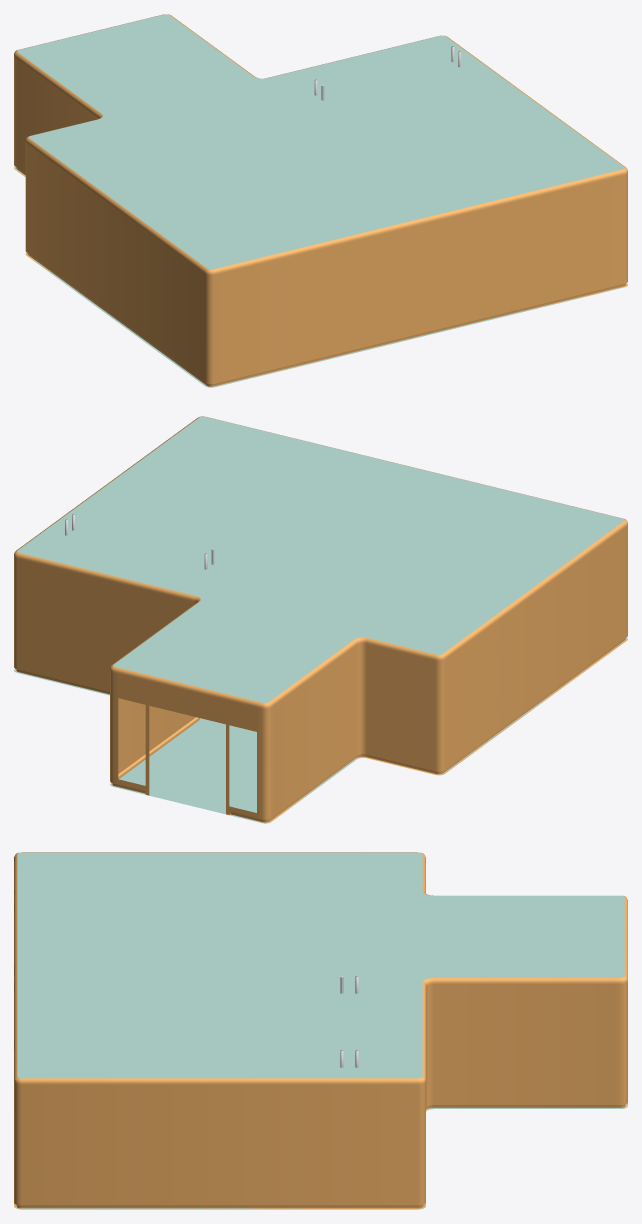
Rendered from EspacoQuase.fbx.
3 views of the same model, one above another, from view 1: azimuth 30°, elevation 25°; view 2: azimuth 150°, elevation 25°; view 3: azimuth 270°, elevation 25° (orthographic). The views are drawn at different scales.
Visible parts, largest first — view 1: Layout.002, Layout.001; view 2: Layout.002, Layout.001; view 3: Layout.002, Layout.001.
Boxes of the visible parts, left/top/right/bottom form: Layout.002: left=14, top=14, right=627, bottom=386; Layout.001: left=14, top=166, right=627, bottom=387; Layout.002: left=14, top=416, right=627, bottom=823; Layout.001: left=14, top=638, right=627, bottom=823; Layout.002: left=14, top=852, right=627, bottom=1209; Layout.001: left=15, top=1104, right=627, bottom=1209.
Size of the model in its own units: 3061 by 911 by 3474.
